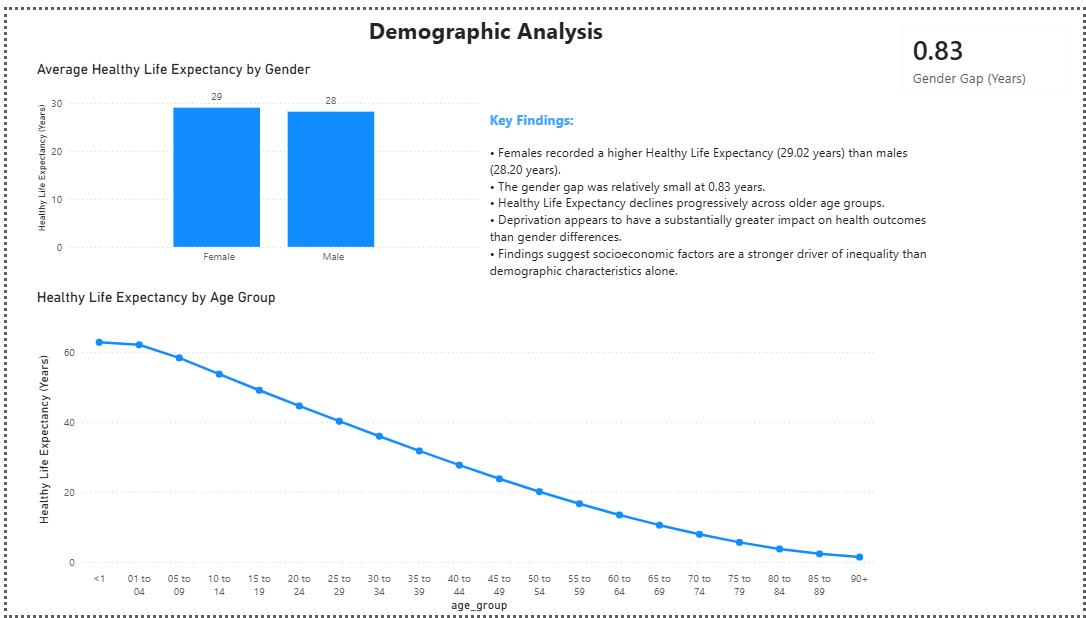

The page's visual inventory and layout, read from the dashboard file:
{"tool":"powerbi","page":{"name":"Demographic Analysis","canvas":[1280,720],"ordinal":1},"visuals":[{"type":"textbox","box":[0,0,1140,60],"z":0},{"type":"clusteredColumnChart","title":"Average Healthy Life Expectancy by Gender","fields":{"Category":["sex_hle.sex"],"Y":["Avg(sex_hle.hle)"]},"box":[30.2,60.4,539.6,250.9],"z":1000},{"type":"lineChart","title":"Healthy Life Expectancy by Age Group","fields":{"Category":["age_hle.age_group"],"Y":["Avg(age_hle.hle)"]},"box":[30.2,332.1,1011.3,388.7],"z":2000},{"type":"textbox","box":[569.7,113.6,533.3,231.8],"z":3000},{"type":"cardVisual","fields":{"Data":["Sum(summary.Value)"]},"box":[1048.5,0,231.8,113.6],"z":3001}]}

Visuals, with their boxes in screenshot pixels (x1, y1, x2, y2), scaled from the page's 1280x720 canvas onto the 1086x618 screenshot:
textbox: [left=0, top=0, right=967, bottom=52]
"Average Healthy Life Expectancy by Gender" clusteredColumnChart: [left=26, top=52, right=483, bottom=267]
"Healthy Life Expectancy by Age Group" lineChart: [left=26, top=285, right=884, bottom=617]
textbox: [left=483, top=98, right=936, bottom=296]
cardVisual - Sum(summary.Value): [left=890, top=0, right=1085, bottom=98]
